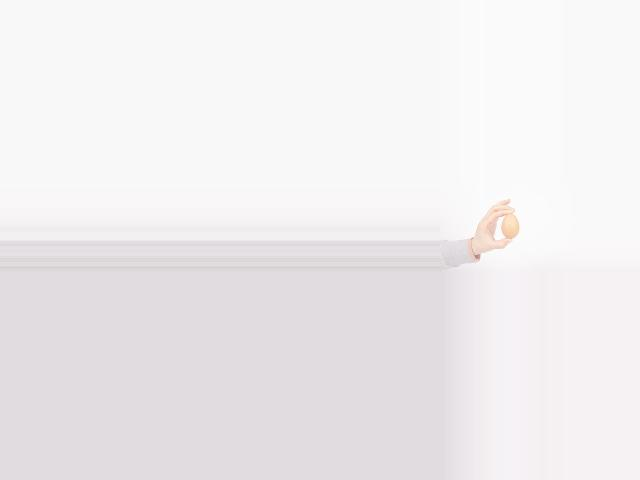egg: (502, 213, 519, 238)
